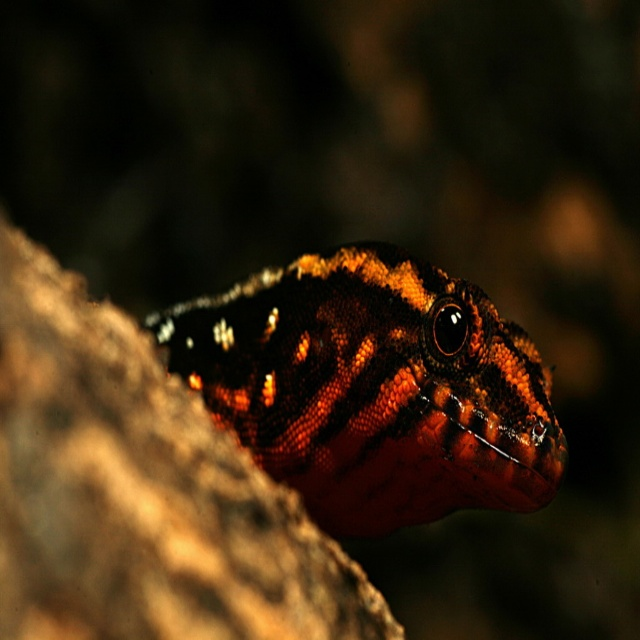Lizard: (144, 240, 566, 544)
